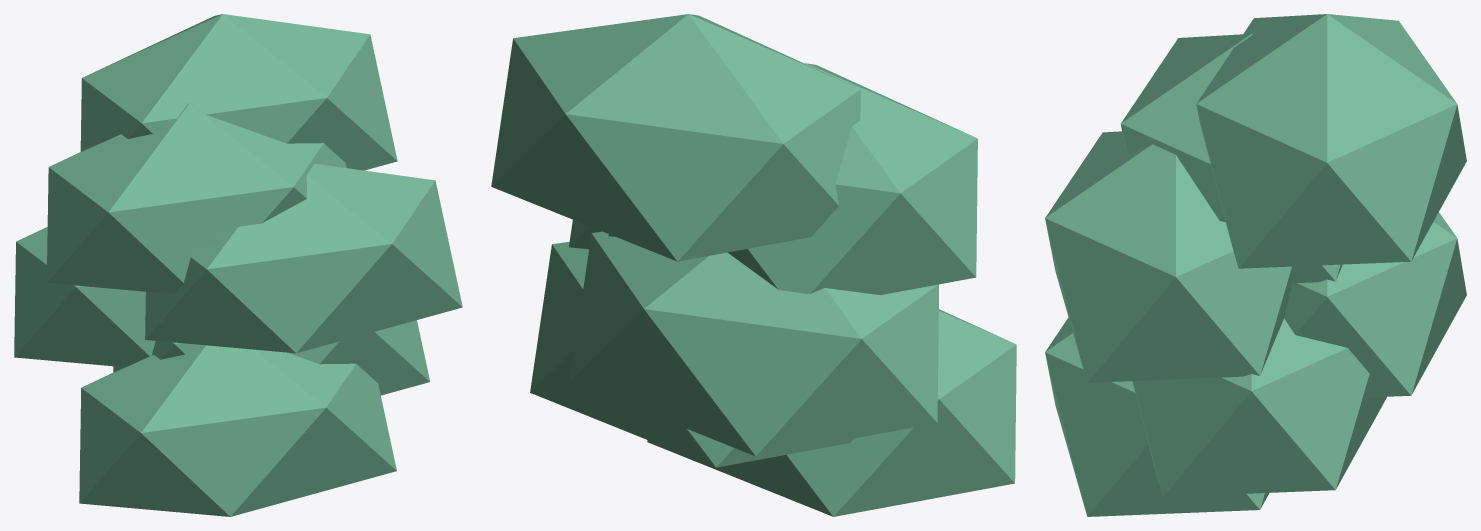
File: item_073_copper_ore_l.glb
The picture shows the model from 3 angles, left to right: view 1: azimuth 30°, elevation 25°; view 2: azimuth 150°, elevation 25°; view 3: azimuth 270°, elevation 25°; orthographic projection. The views are drawn at different scales.
Parts seen in each view (by area): view 1: item_073_copper_ore_l; view 2: item_073_copper_ore_l; view 3: item_073_copper_ore_l.
Boxes of the visible parts, <box> form: item_073_copper_ore_l: <box>14,14,462,516</box>; item_073_copper_ore_l: <box>491,14,1016,516</box>; item_073_copper_ore_l: <box>1045,14,1466,516</box>.
Size of the model in its own units: 0.379 by 0.443 by 0.3348.
